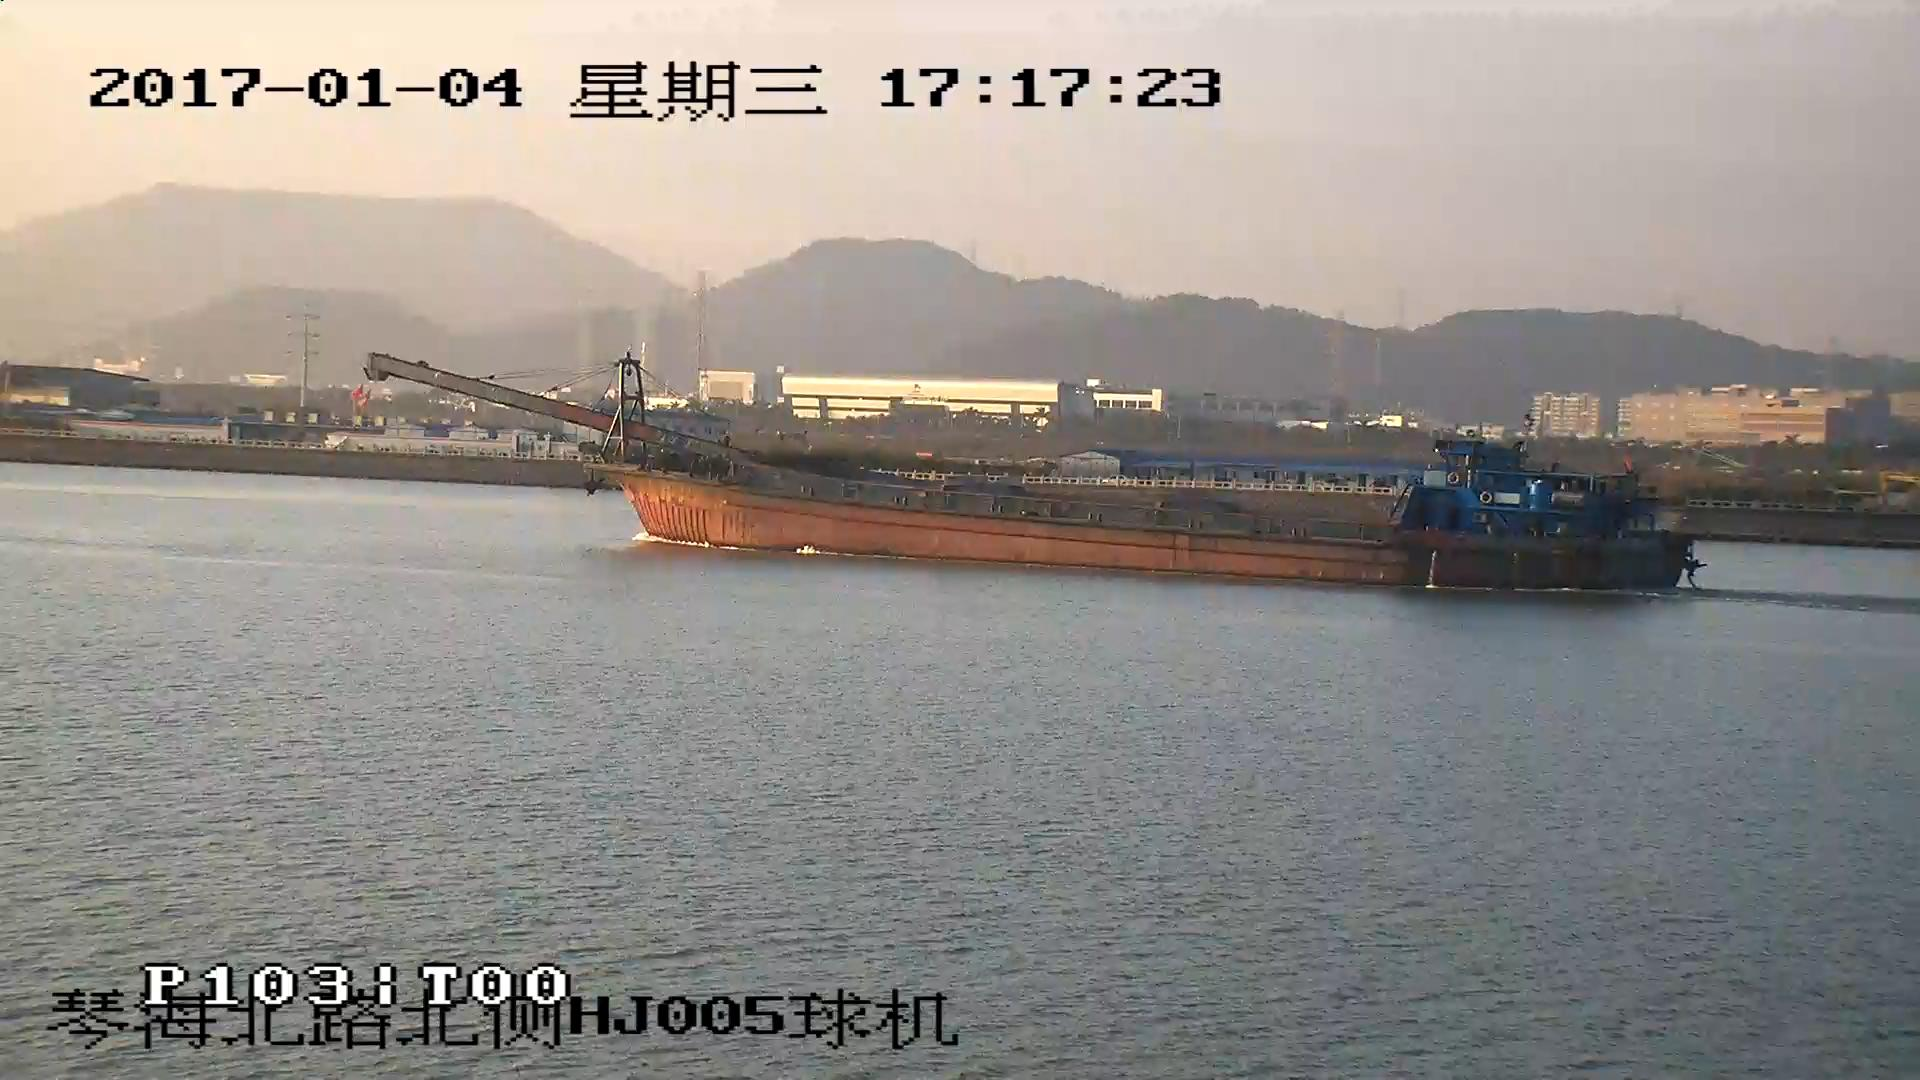bulk cargo carrier: (364, 348, 1701, 590)
